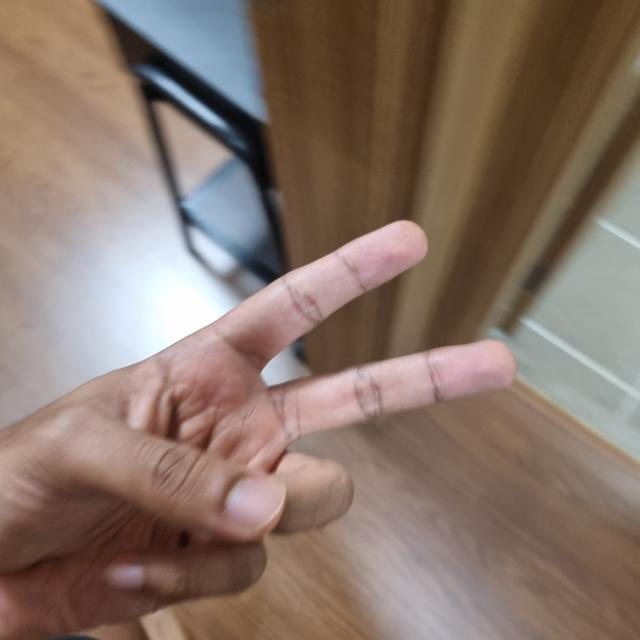Scissors: (2, 222, 508, 637)
